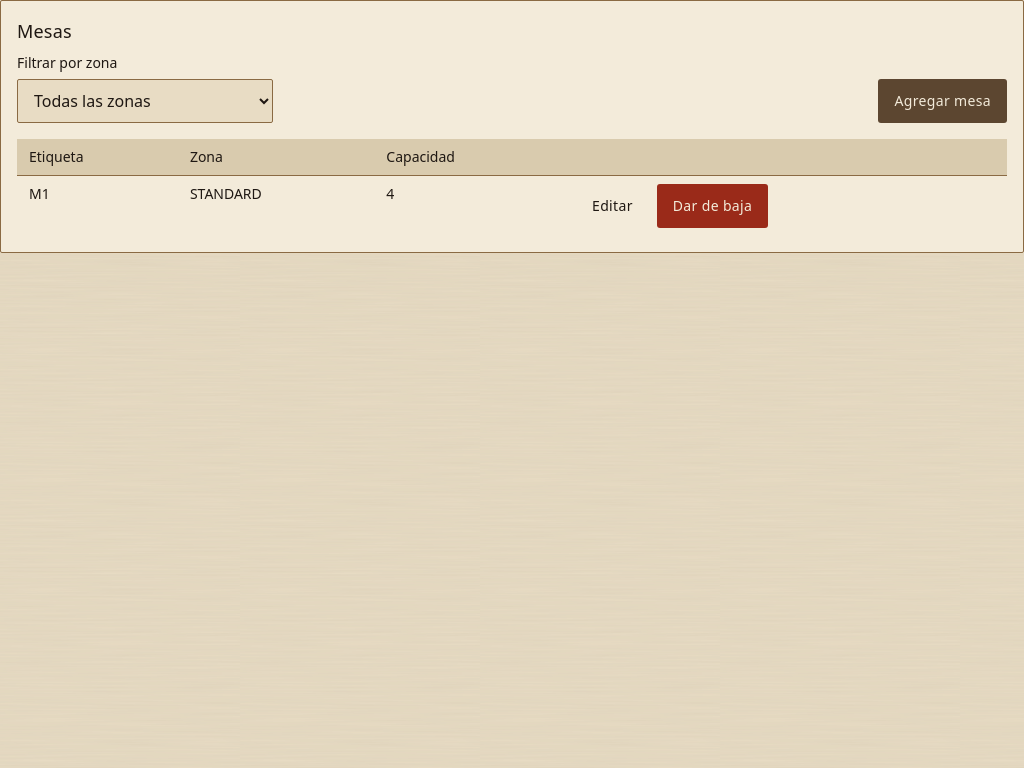
MesasPanel › alta exitosa agrega la fila
Click the button "Agregar mesa": (943, 101) [878,79,1007,123]
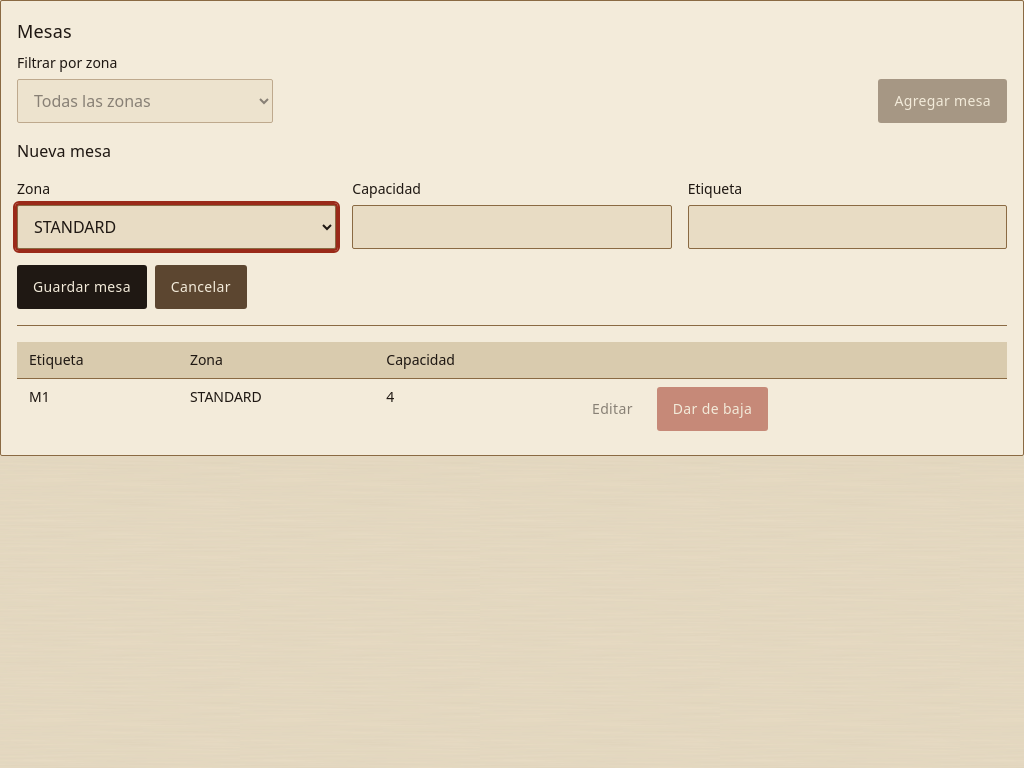
Select "VIP" in the dropdown labelled "Zona": (177, 227) [17,205,336,249]
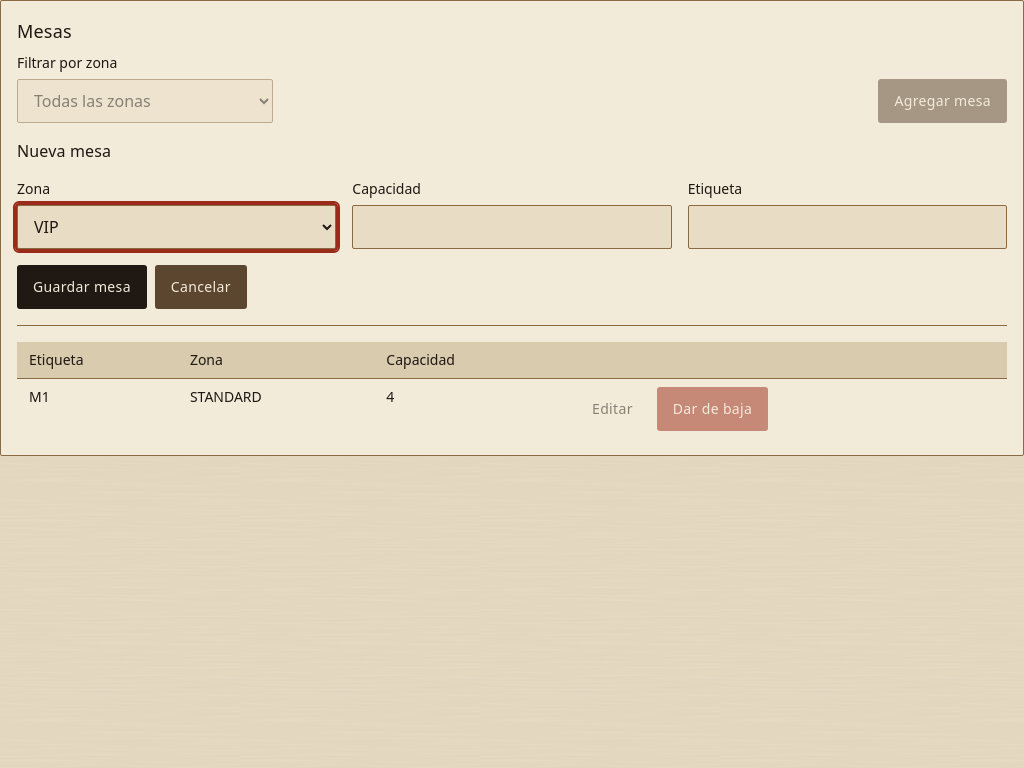
In the number field labelled "Capacidad": (512, 227) [352,205,672,249], type "6"
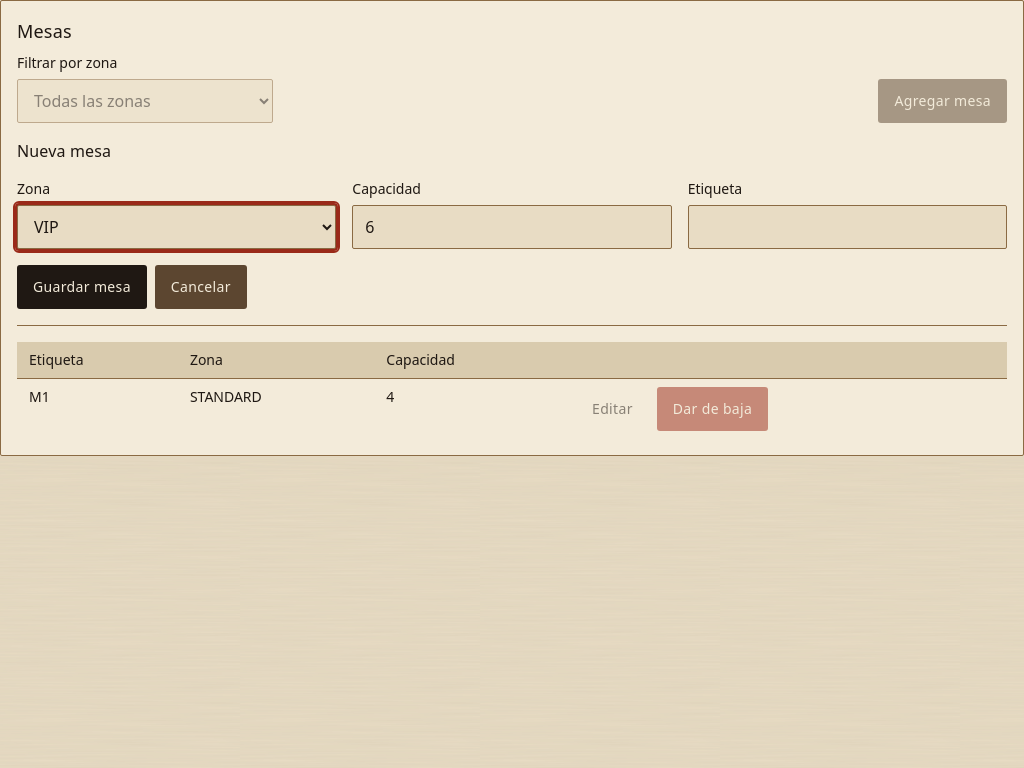
In the field labelled "Etiqueta": (847, 227) [688,205,1007,249], type "M9"
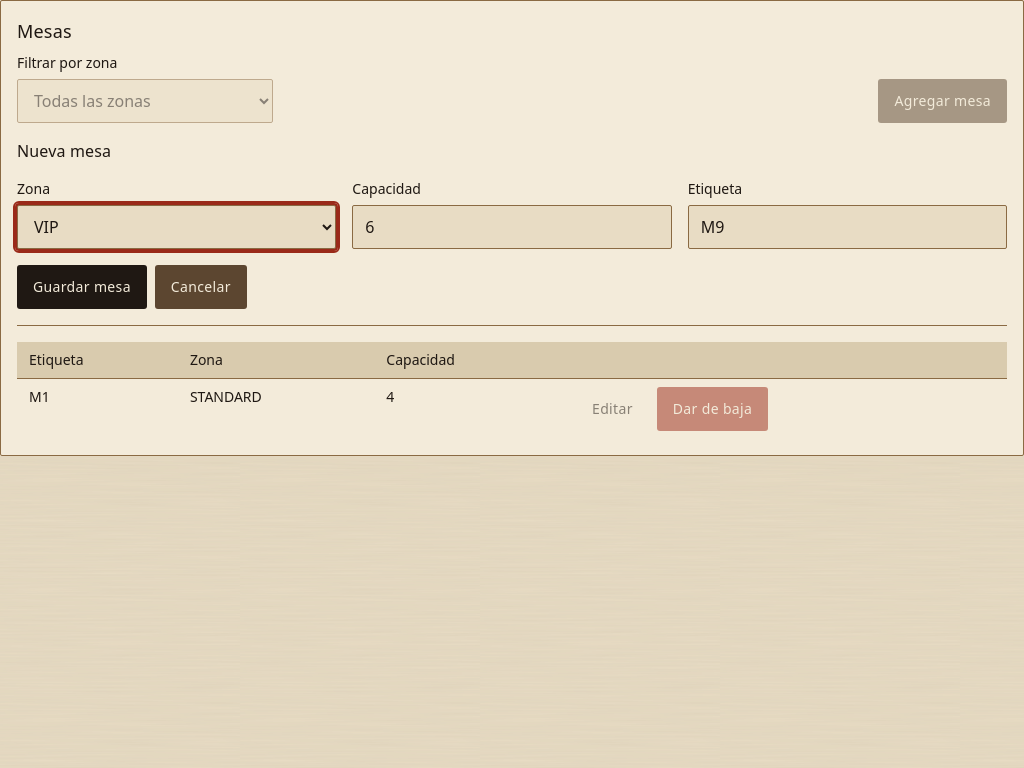
Click the button "Guardar mesa": (82, 287) [17,265,147,309]
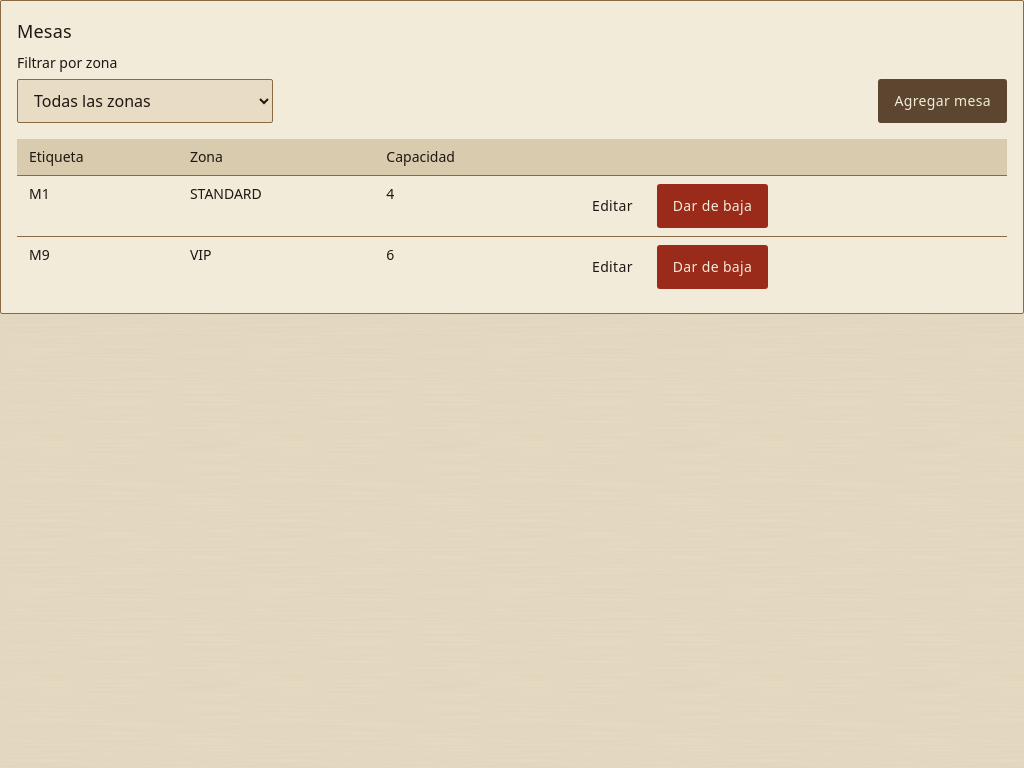
expect the column heading "M9" is shown: met, box [17,236,178,297]
